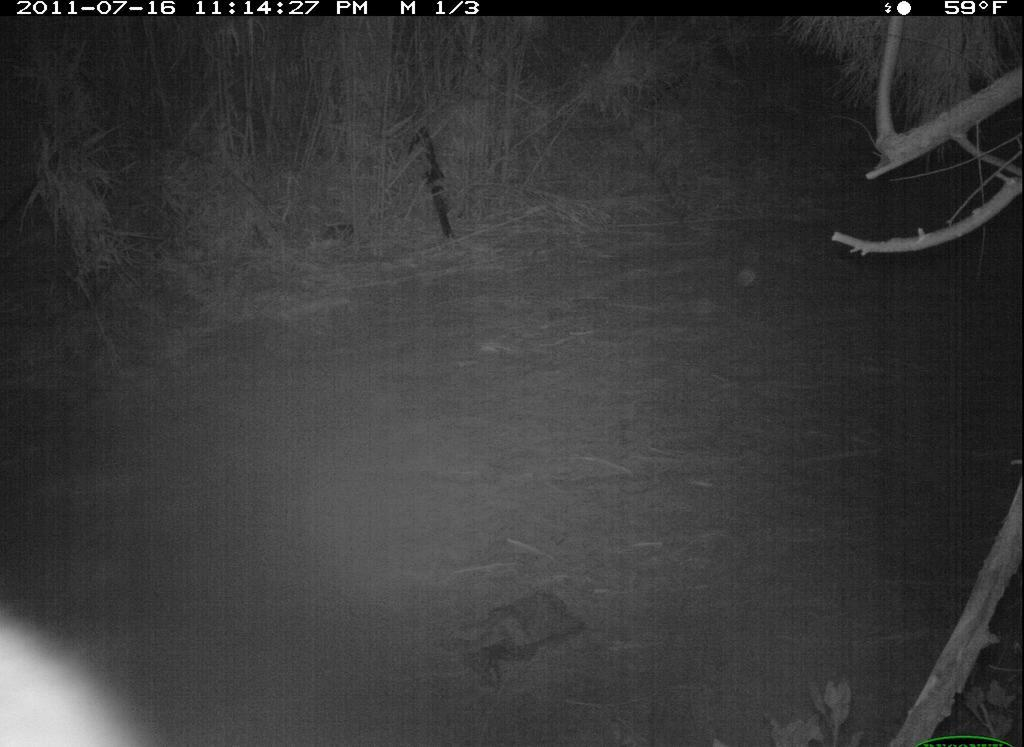raccoon: (446, 592, 588, 662)
